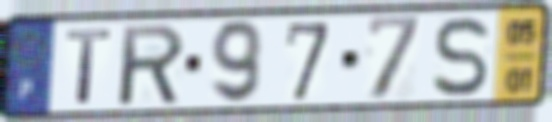7: (365, 13, 424, 103), (283, 20, 333, 102)
9: (208, 18, 265, 107)
R: (119, 21, 188, 109)
S: (429, 14, 493, 99)
T: (62, 26, 115, 107)
